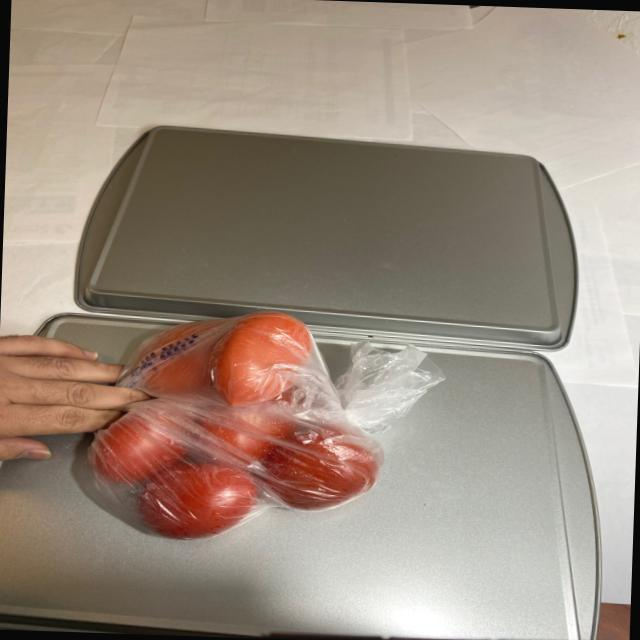tomato: (90, 305, 408, 544)
